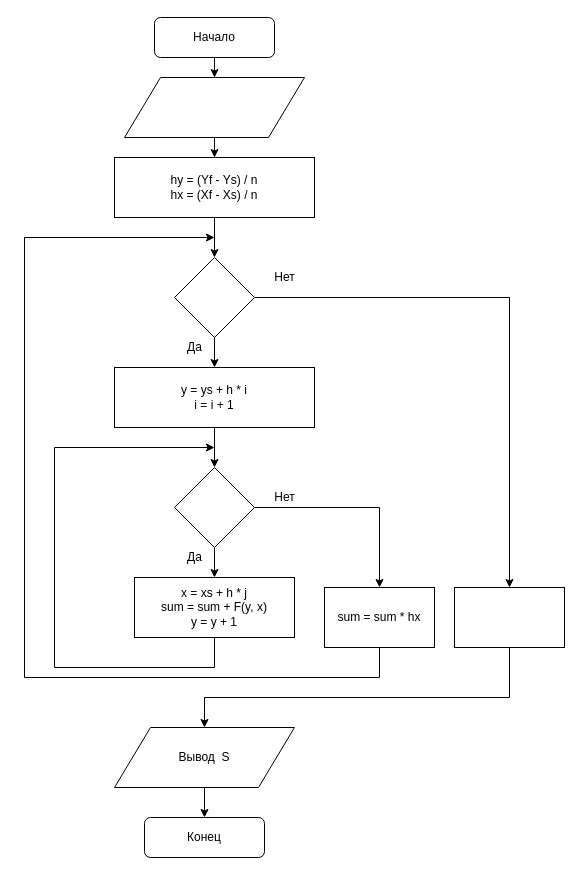
Image size: 582x875. Some labels were removed from this diagram. Here are the shapes that lost their labels. From the top down, the box of each, then its label:
(124, 76, 304, 138): Ввод A, B, C, D, Xs, Xf, Ys,Yf
(174, 256, 254, 338): i < n
(174, 466, 254, 548): j < n
(454, 586, 564, 648): sum = sum * hy
